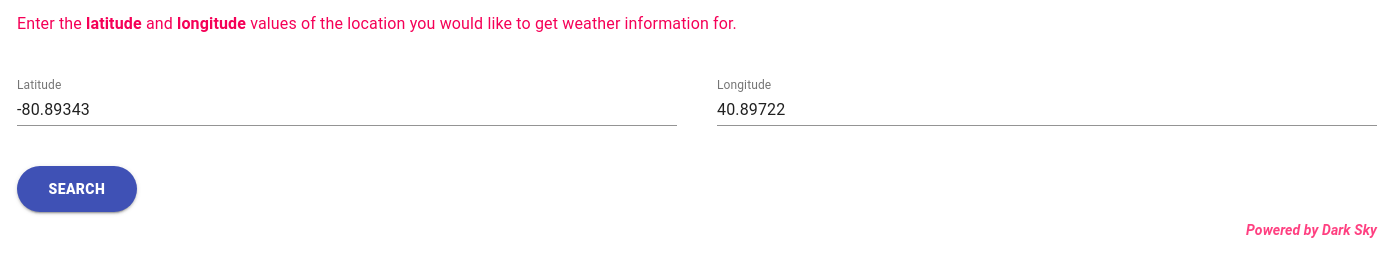
<Form /> › Error message is shown with an incorrect longitude value
Step 1. Type "20..4" into the field with test id "longitude" → (1047, 110), box 717,94 -> 1377,126
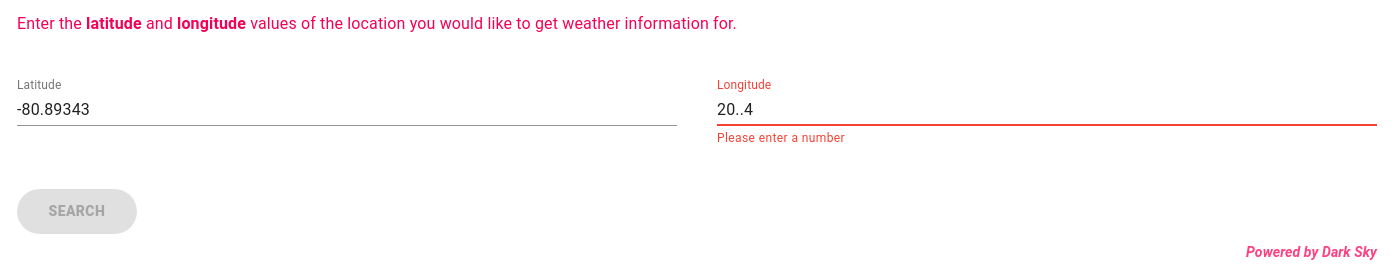
Expected: the text with id "longitude-helper-text" reads "Please enter a number", 717,131 -> 845,145
